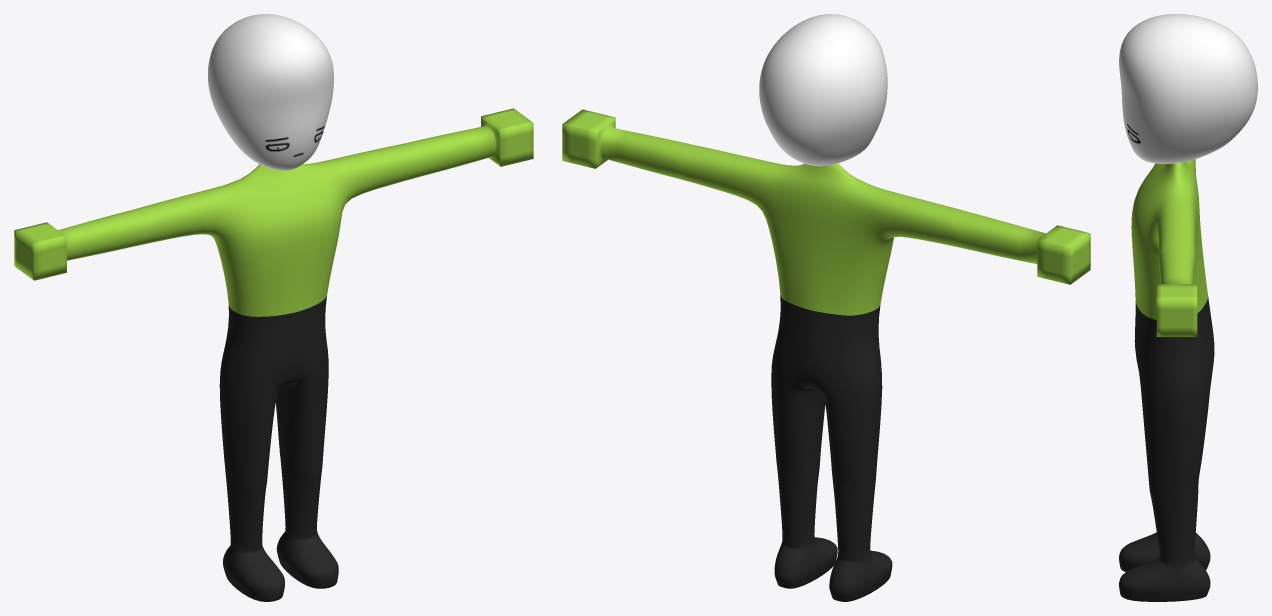
The model's file is MiiGrayo.fbx.
3 views of the same model, side by side, from view 1: azimuth 30°, elevation 25°; view 2: azimuth 150°, elevation 25°; view 3: azimuth 270°, elevation 25° (orthographic).
Visible parts, largest first — view 1: Teuté.004; view 2: Teuté.004; view 3: Teuté.004.
Part boxes in pixels (x1=…): Teuté.004: x1=14, y1=14, x2=533, y2=601; Teuté.004: x1=562, y1=14, x2=1090, y2=601; Teuté.004: x1=1119, y1=14, x2=1257, y2=601.
Bounding box in the file's own units: 248 × 262 × 58.7.
